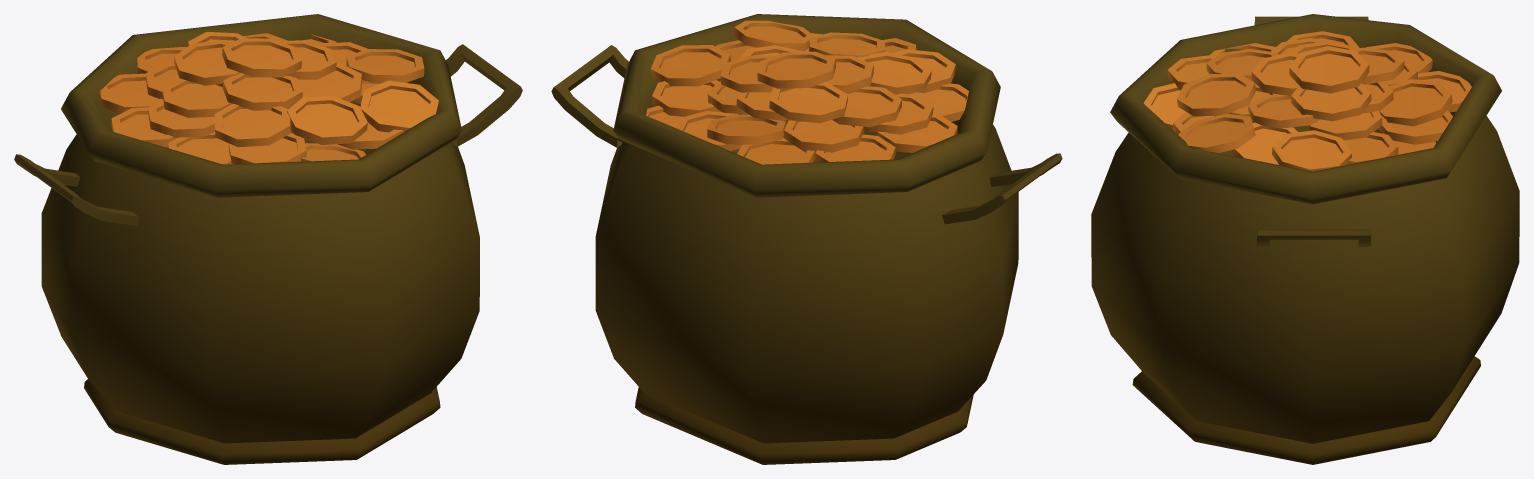
The model's file is Cauldron_Gold.fbx.
3 renders of one model, left to right at view 1: azimuth 30°, elevation 25°; view 2: azimuth 150°, elevation 25°; view 3: azimuth 270°, elevation 25°, orthographic. The views are drawn at different scales.
Parts seen in each view (by area): view 1: Cylinder.060; view 2: Cylinder.060; view 3: Cylinder.060.
Boxes of the visible parts, box(x1,y1,x2,y2) form: Cylinder.060: box(14, 14, 522, 464); Cylinder.060: box(551, 14, 1062, 464); Cylinder.060: box(1091, 14, 1519, 464).
Size of the model in its own units: 432 by 308 by 362.
